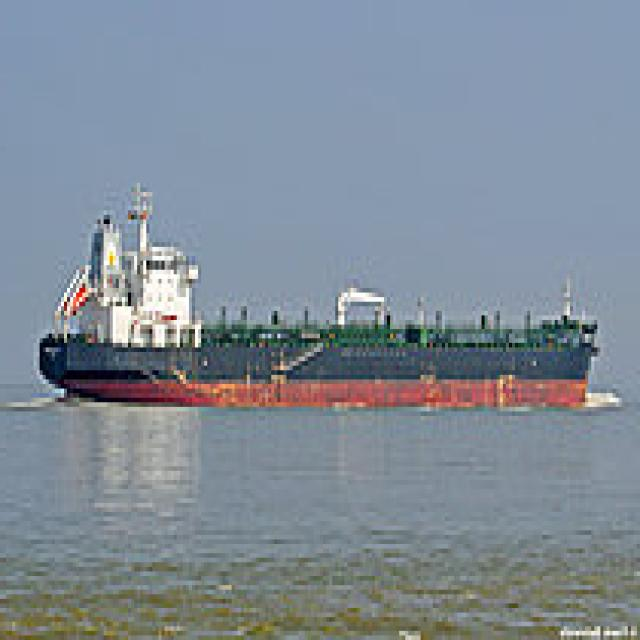Tanker: (39, 178, 604, 402)
